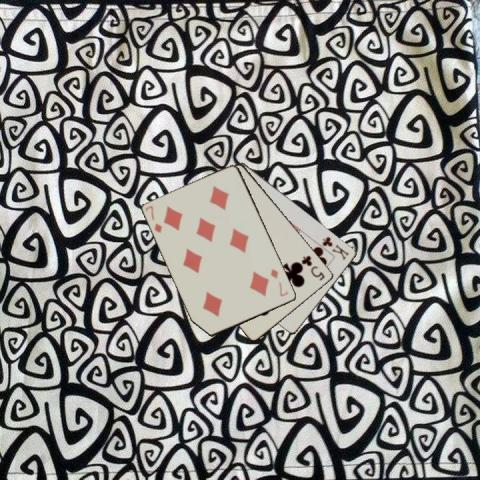5c: (299, 252, 327, 282)
7d: (268, 265, 289, 298), (143, 202, 164, 234)
Kc: (319, 234, 351, 262)
